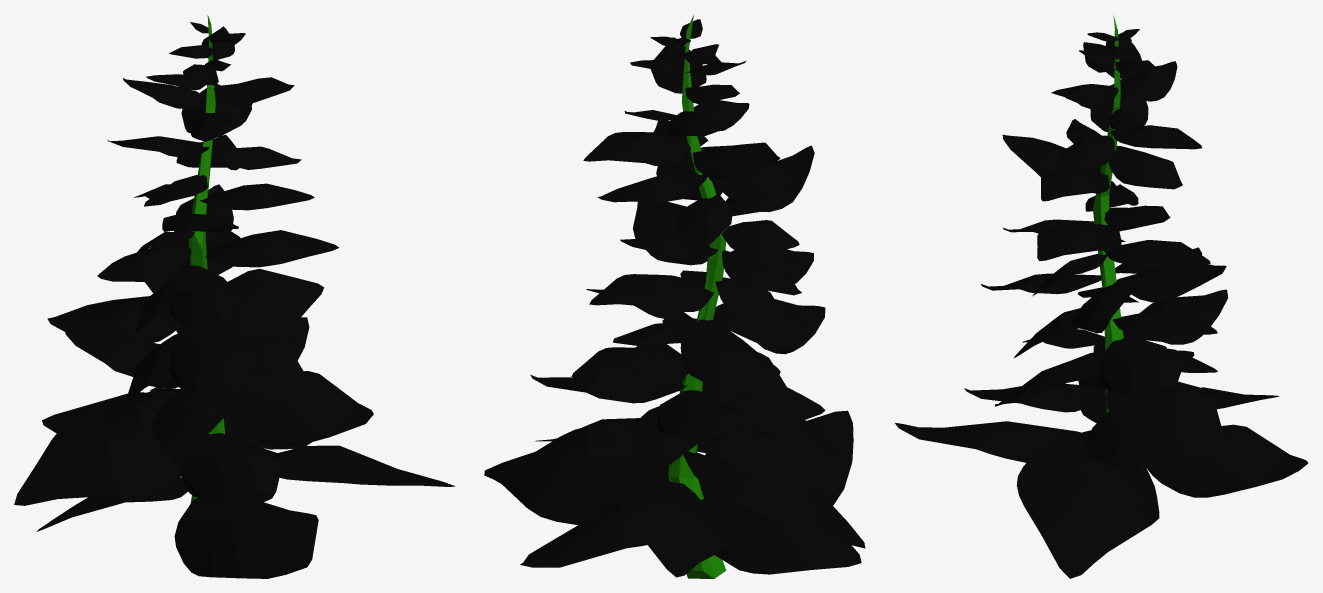
Rendered from Sapling_EM.fbx.
The picture shows the model from 3 angles, left to right: view 1: azimuth 30°, elevation 25°; view 2: azimuth 150°, elevation 25°; view 3: azimuth 270°, elevation 25°; orthographic projection. The views are drawn at different scales.
Visible parts, largest first — view 1: Sapling_EM; view 2: Sapling_EM; view 3: Sapling_EM.
Boxes of the visible parts, left/top/right/bottom form: Sapling_EM: left=14, top=15, right=454, bottom=578; Sapling_EM: left=484, top=15, right=865, bottom=578; Sapling_EM: left=895, top=15, right=1308, bottom=578.
Bounding box in the file's own units: 97.05 × 124 × 94.57.
